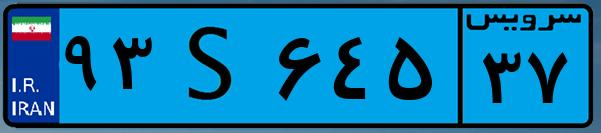3: (475, 38, 525, 113), (110, 28, 158, 98)
4: (330, 28, 385, 110)
5: (385, 28, 445, 110)
6: (270, 28, 330, 110)
7: (525, 38, 570, 115)
9: (57, 26, 110, 100)
S: (158, 12, 270, 120)
